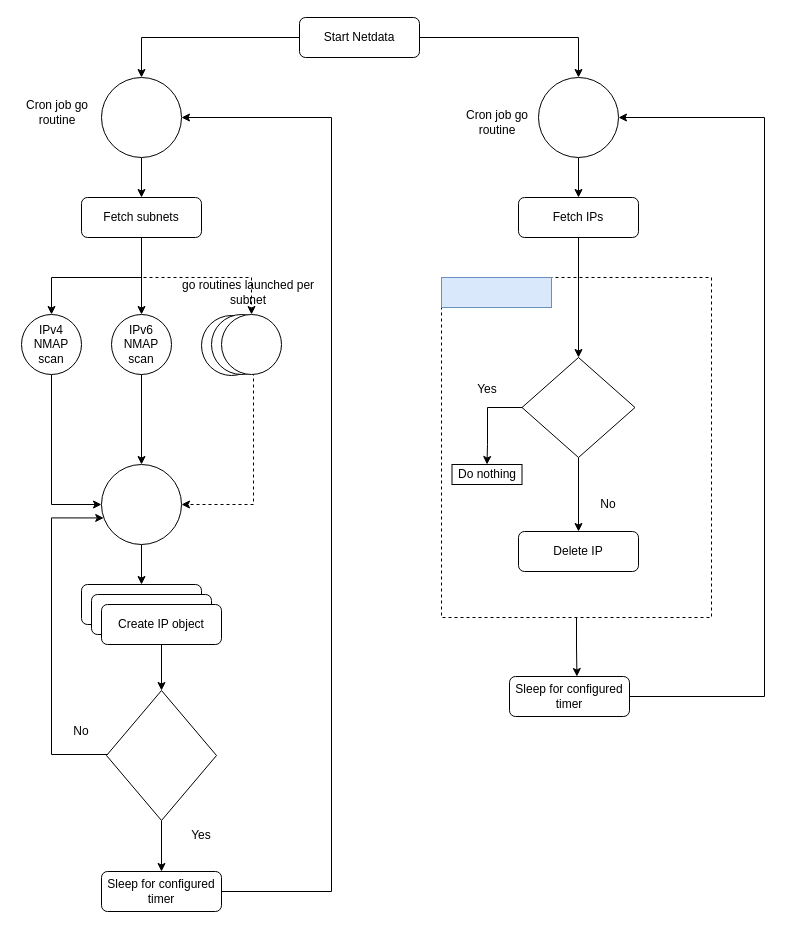
Some shapes in this 790 by 929 pixel diagram are drawn without their labels. The centre of each missing label's shape, as x and y in pixels:
"All parallel scans finished ?" goes at pixel 161 755.
"IP Cleaner" goes at pixel 578 117.
"IP object looping" goes at pixel 496 292.
"NMAP scan Receiver" goes at pixel 141 504.
"Ping successful ?" goes at pixel 578 407.
"Subnet Scanner" goes at pixel 141 117.
